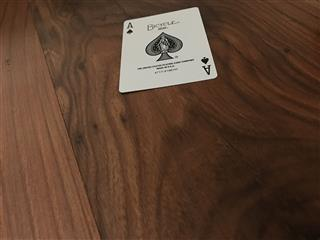AceOfSpades: (117, 5, 218, 94)
